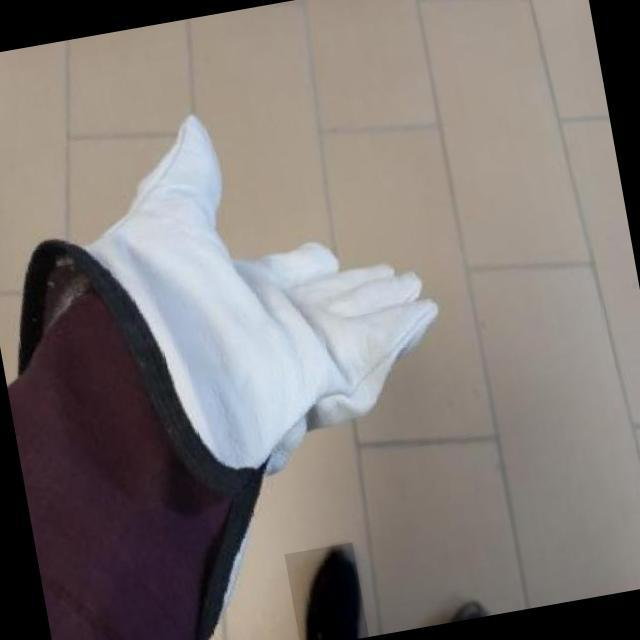Gloves: (9, 84, 467, 495)
Safety Boot: (284, 541, 369, 640)
